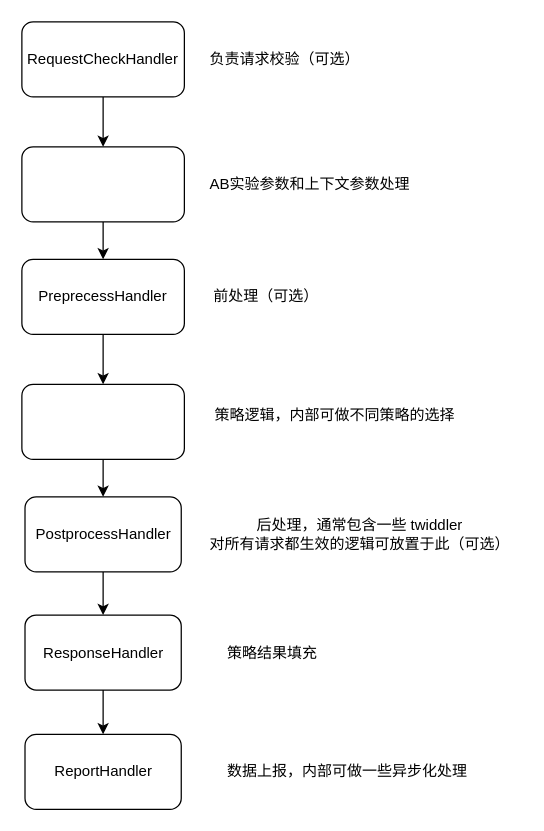
Image size: 544x831. Some labels were removed from this diagram. Here are the shapes that lost their labels. From the top down, the centre of each, then its label:
At point 102,184: "ParameterHandler".
At point 102,421: "PolicyHandler".
